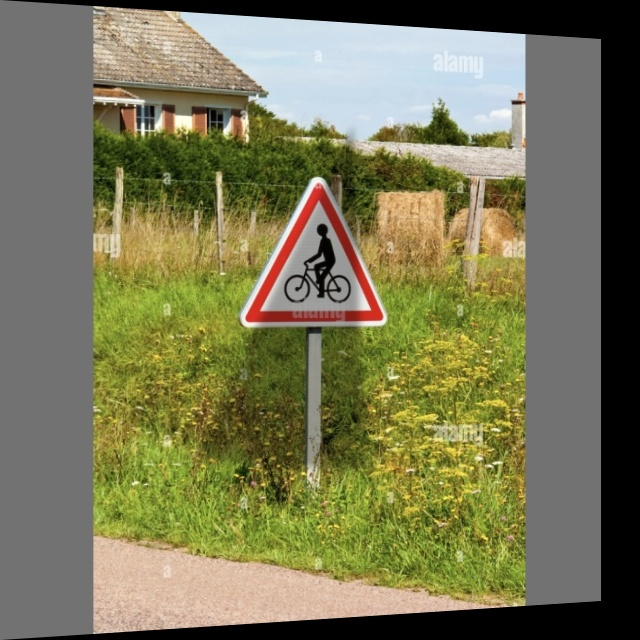Cycle_Crossing: (251, 178, 388, 333)
